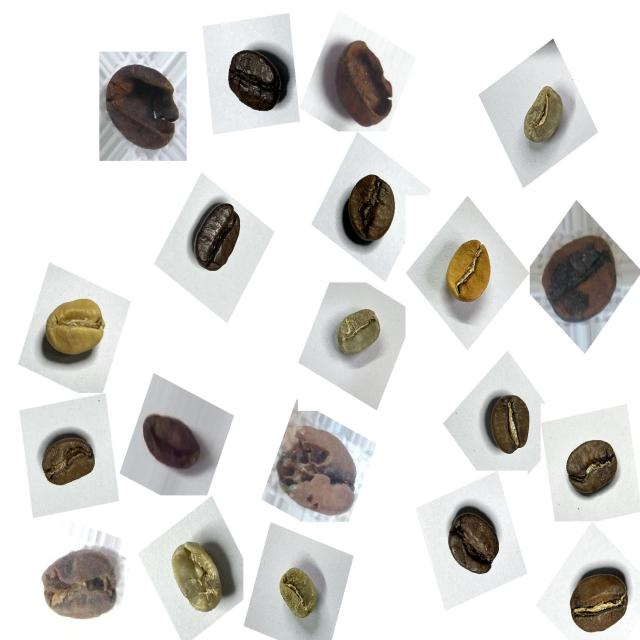bad: (90, 53, 190, 168), (274, 416, 367, 530), (534, 223, 628, 333), (320, 31, 403, 138), (33, 538, 123, 636), (141, 403, 212, 483)
dark: (333, 163, 407, 256), (215, 35, 291, 125), (184, 190, 254, 284), (435, 500, 508, 590)
green: (159, 527, 235, 624), (512, 78, 572, 158), (326, 299, 391, 371), (268, 558, 329, 633)
light: (34, 284, 114, 374), (434, 231, 501, 317)
medium: (559, 561, 638, 640), (556, 426, 628, 506), (33, 425, 104, 500), (476, 386, 542, 466)
